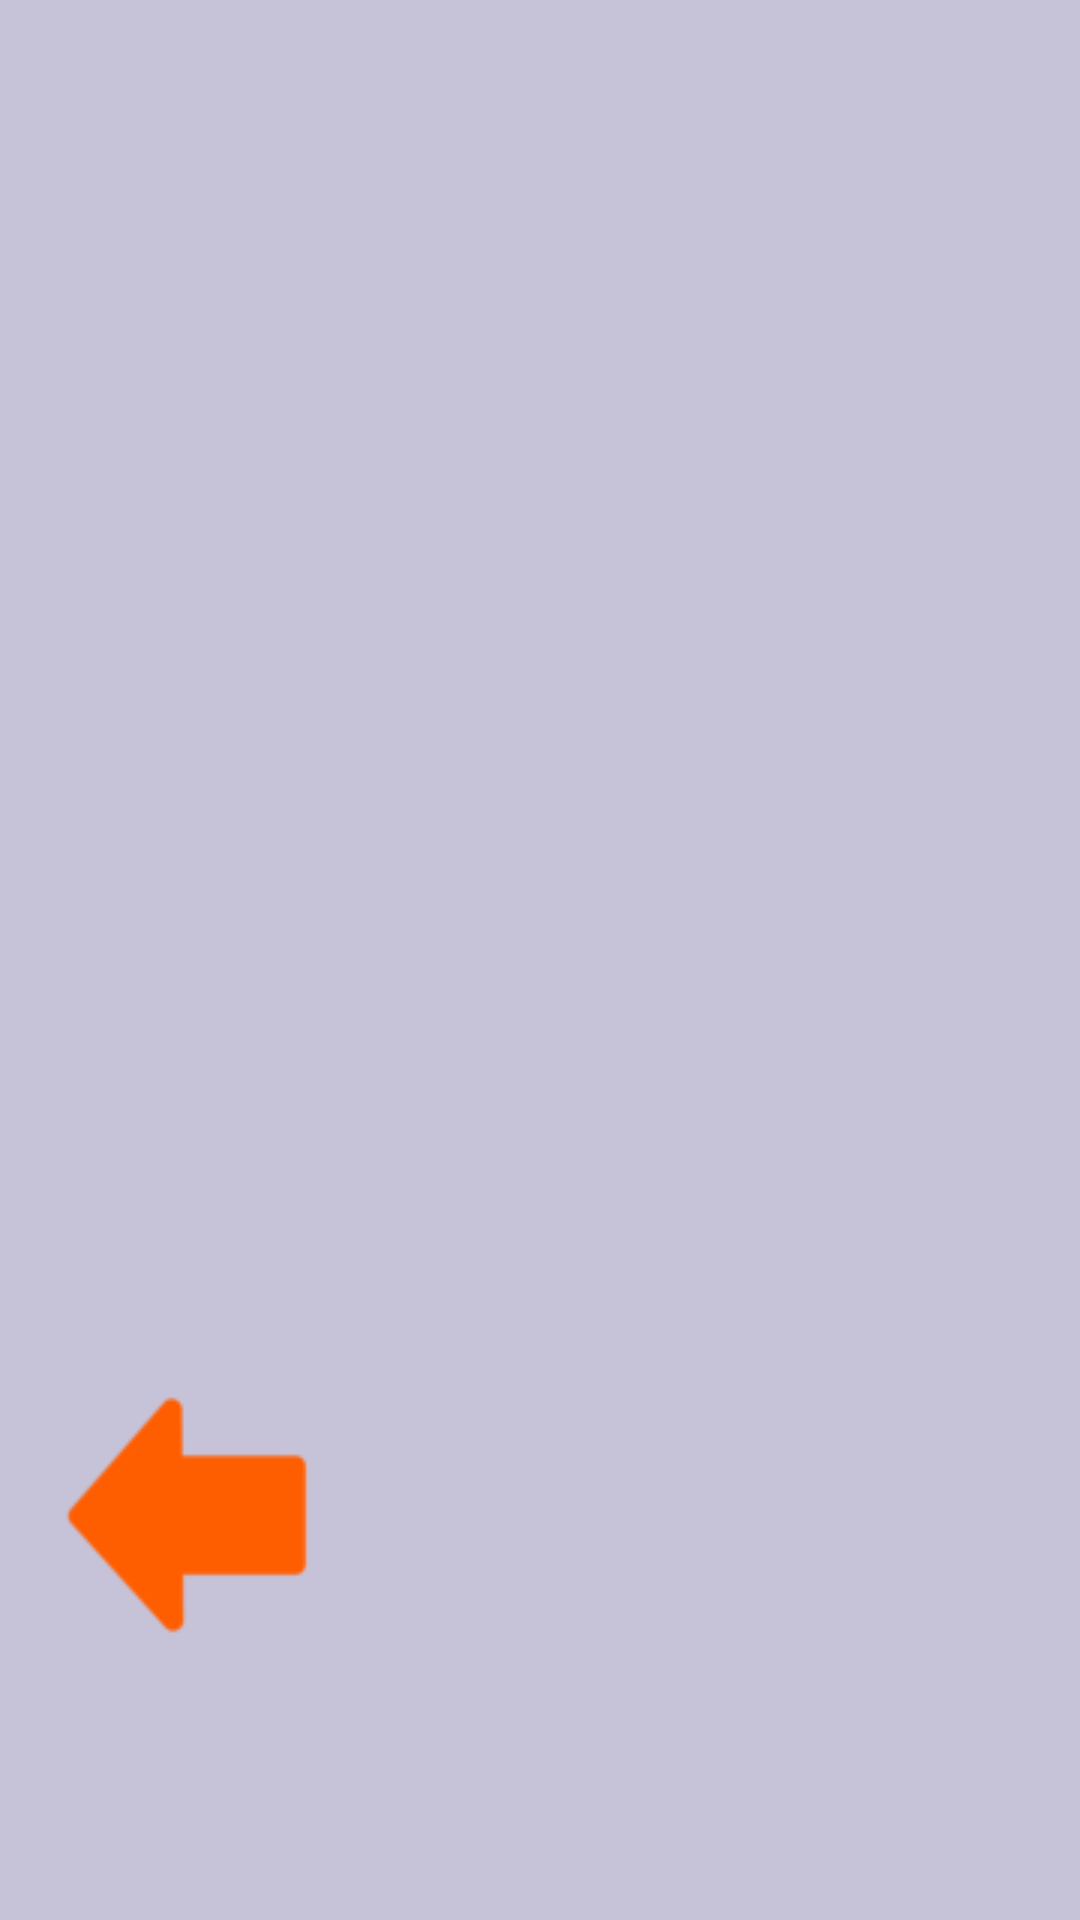

Icons on this 1080×1920 Android screen, each with its box as detection(x1, y1, x2, y2):
back: detection(66, 1397, 307, 1633)
